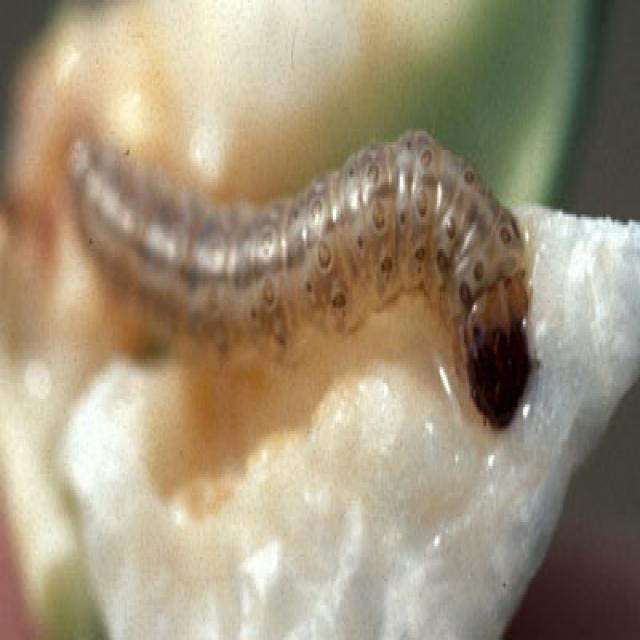cornborer-Larva-: (59, 101, 547, 441)
